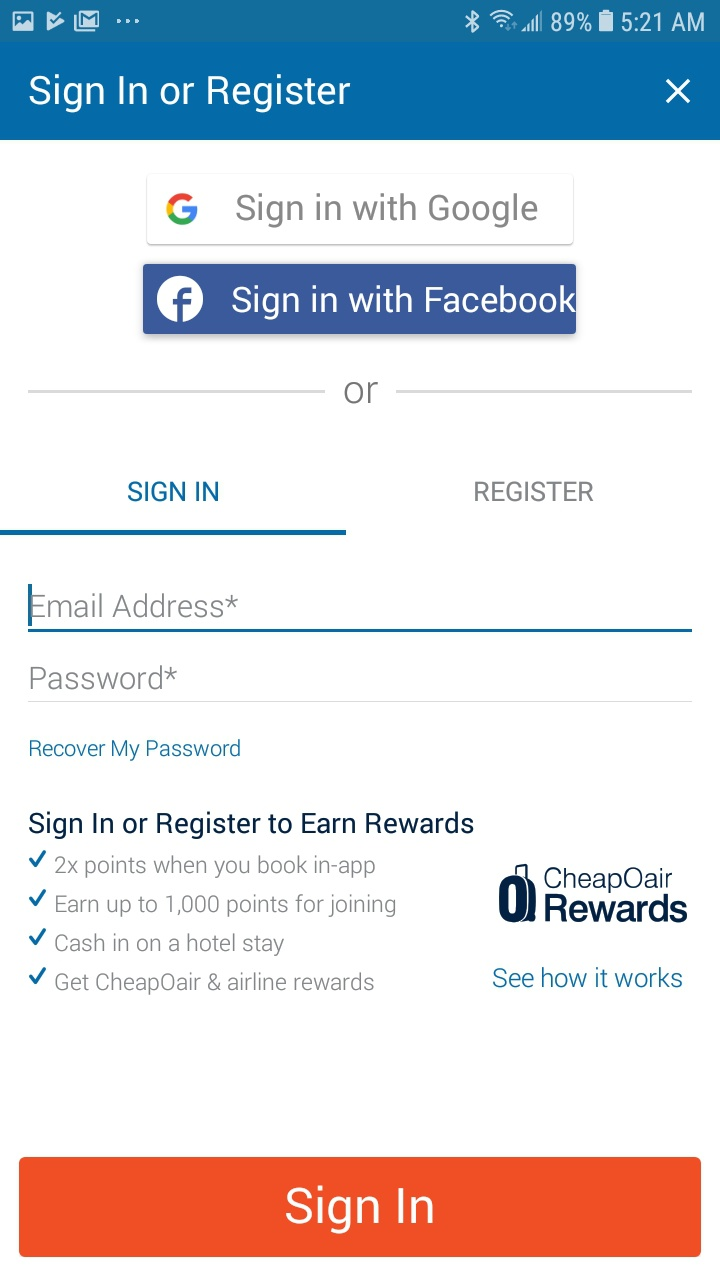EditText: (28, 584, 693, 633), (28, 664, 693, 703)
Icon: (665, 78, 691, 105), (30, 849, 48, 868), (30, 967, 48, 985), (29, 928, 47, 946), (30, 889, 48, 907)
Image: (498, 864, 537, 924)
Text: (29, 810, 474, 840), (29, 74, 352, 115), (56, 893, 396, 918), (544, 867, 688, 924), (55, 854, 376, 879), (55, 972, 375, 996), (55, 932, 285, 957), (30, 593, 239, 618), (30, 738, 241, 762), (493, 967, 683, 989), (31, 665, 178, 691), (474, 481, 594, 503), (129, 481, 220, 503), (344, 381, 379, 405)
TextButton: (19, 1156, 701, 1257), (146, 173, 574, 246), (143, 265, 576, 336)
UpperTaskBar: (1, 1, 720, 43)
